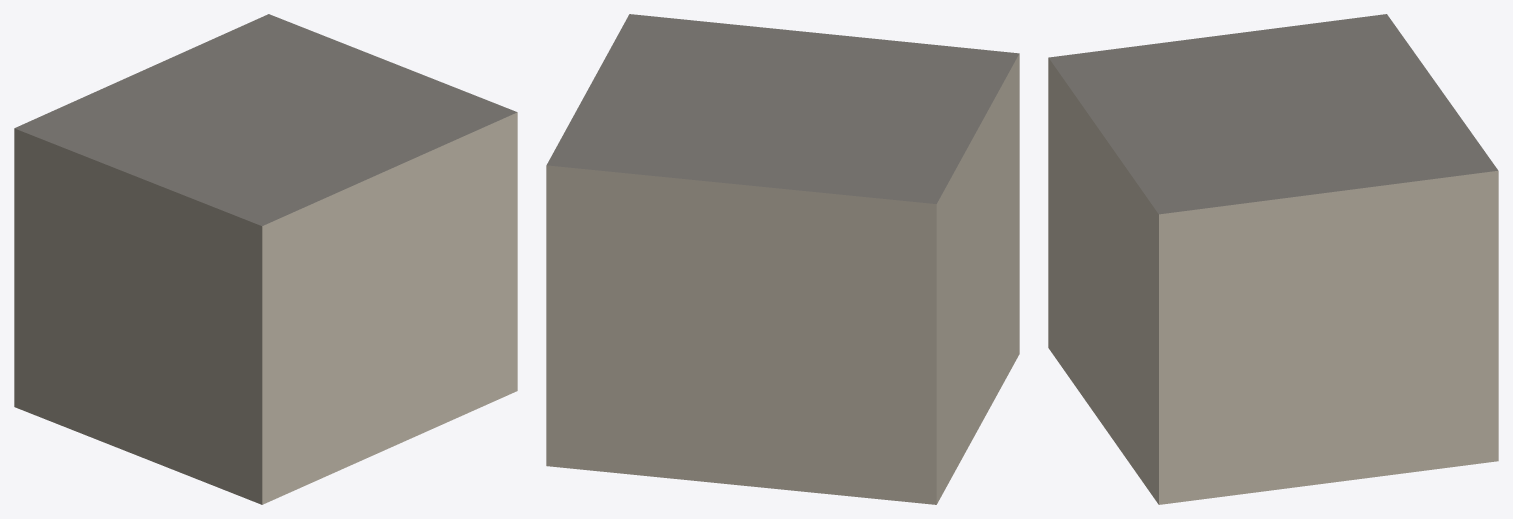
The picture shows the model from 3 angles, left to right: view 1: azimuth 30°, elevation 25°; view 2: azimuth 150°, elevation 25°; view 3: azimuth 270°, elevation 25°; orthographic projection. The views are drawn at different scales.
Parts seen in each view (by area): view 1: HP-w1267682862; view 2: HP-w1267682862; view 3: HP-w1267682862.
Part boxes in pixels (x1=…): HP-w1267682862: x1=14, y1=14, x2=517, y2=504; HP-w1267682862: x1=546, y1=14, x2=1019, y2=504; HP-w1267682862: x1=1048, y1=14, x2=1498, y2=504.
Size of the model in its own units: 26.63 by 18 by 25.27.
